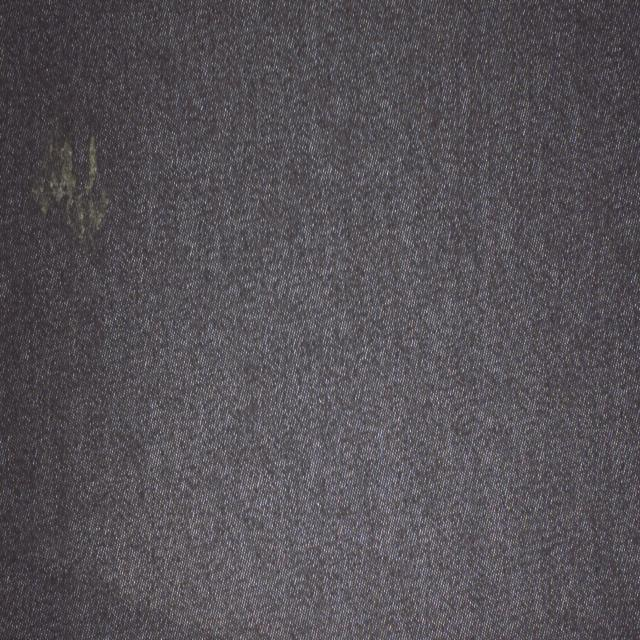Stain: (29, 118, 109, 252)
